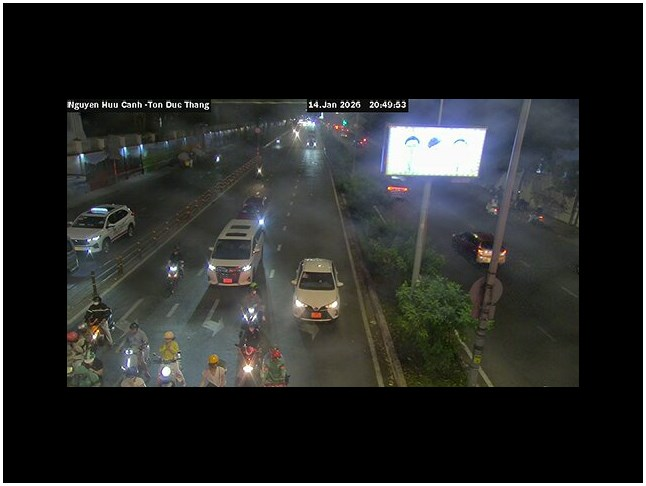car: (206, 218, 264, 286), (291, 257, 343, 323), (69, 204, 136, 241), (451, 230, 502, 266)
